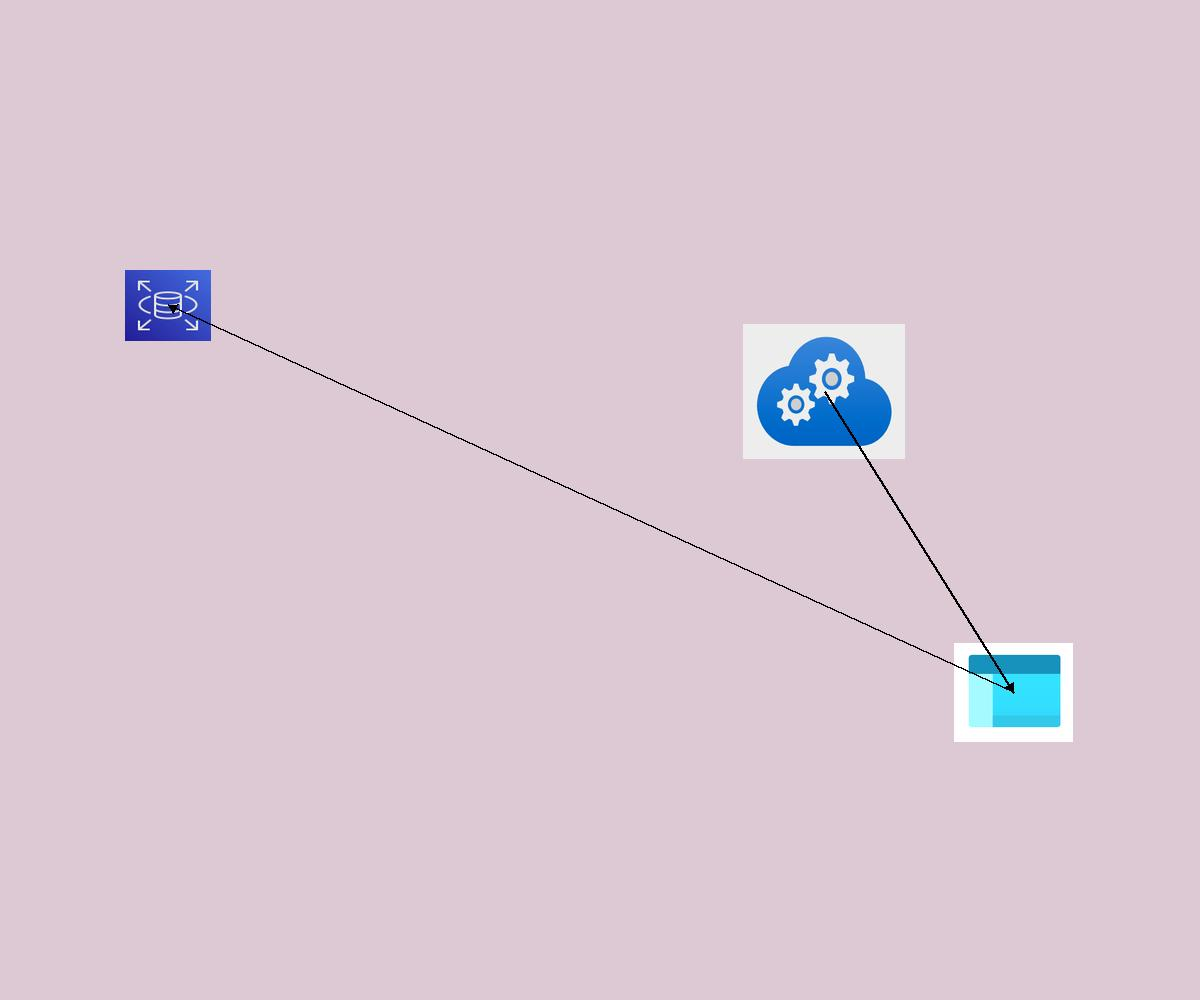AWS-RDS: (125, 270, 211, 341)
Azure_cloud_services: (743, 324, 905, 459)
Azure_management-portal: (954, 643, 1073, 742)
